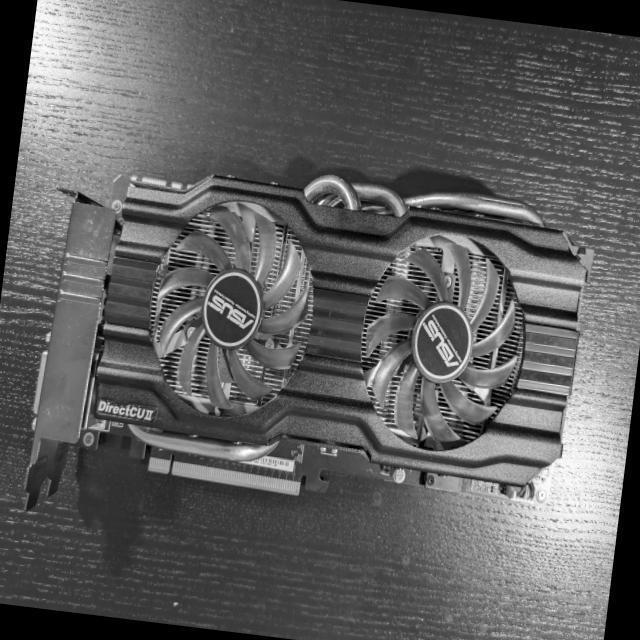GPU: (16, 160, 592, 526)
